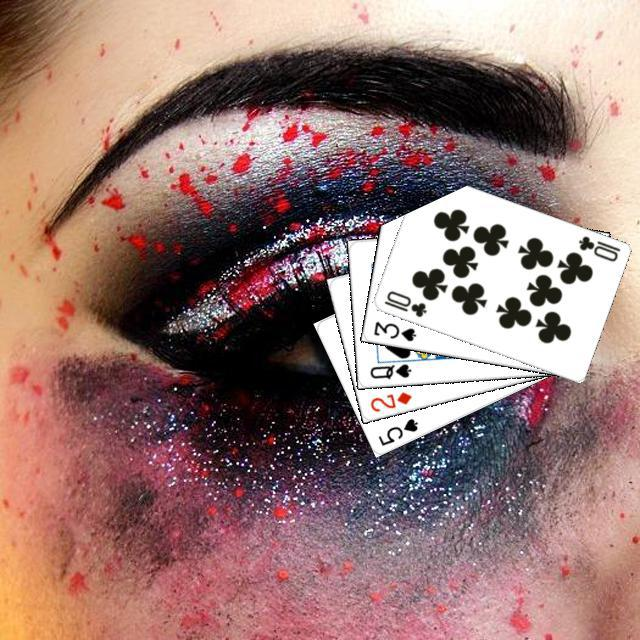10c: (379, 286, 428, 319), (573, 231, 622, 263)
2d: (365, 387, 414, 413)
3s: (369, 316, 418, 343)
5s: (373, 413, 420, 447)
Qs: (365, 359, 412, 381)
